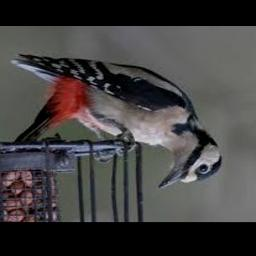Woodpecker: (11, 54, 223, 189)
